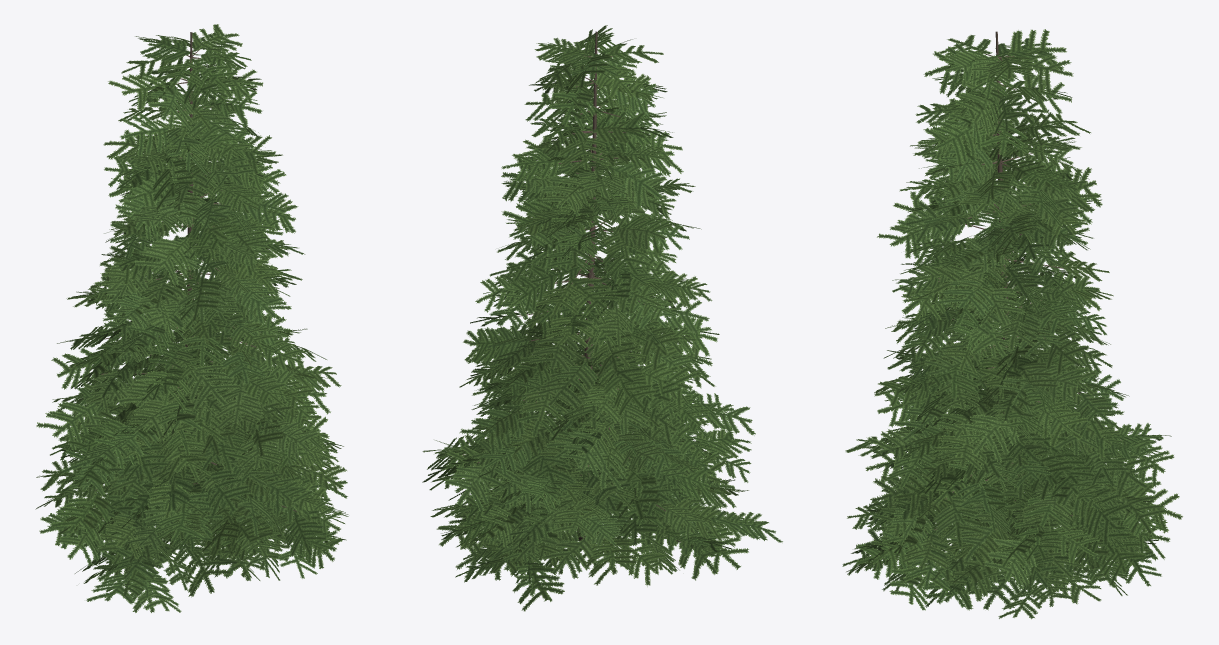
The model's file is smrk_mlady.glb.
3 renders of one model, left to right at view 1: azimuth 30°, elevation 25°; view 2: azimuth 150°, elevation 25°; view 3: azimuth 270°, elevation 25°, orthographic. The views are drawn at different scales.
Parts seen in each view (by area): view 1: smrk_mlady; view 2: smrk_mlady; view 3: smrk_mlady.
Boxes of the visible parts, left/top/right/bottom form: smrk_mlady: left=35, top=24, right=348, bottom=612; smrk_mlady: left=422, top=25, right=782, bottom=611; smrk_mlady: left=842, top=29, right=1182, bottom=619.
Size of the model in its own units: 5.71 by 8.92 by 5.66.
Materials: 2 (2 with a texture image).
